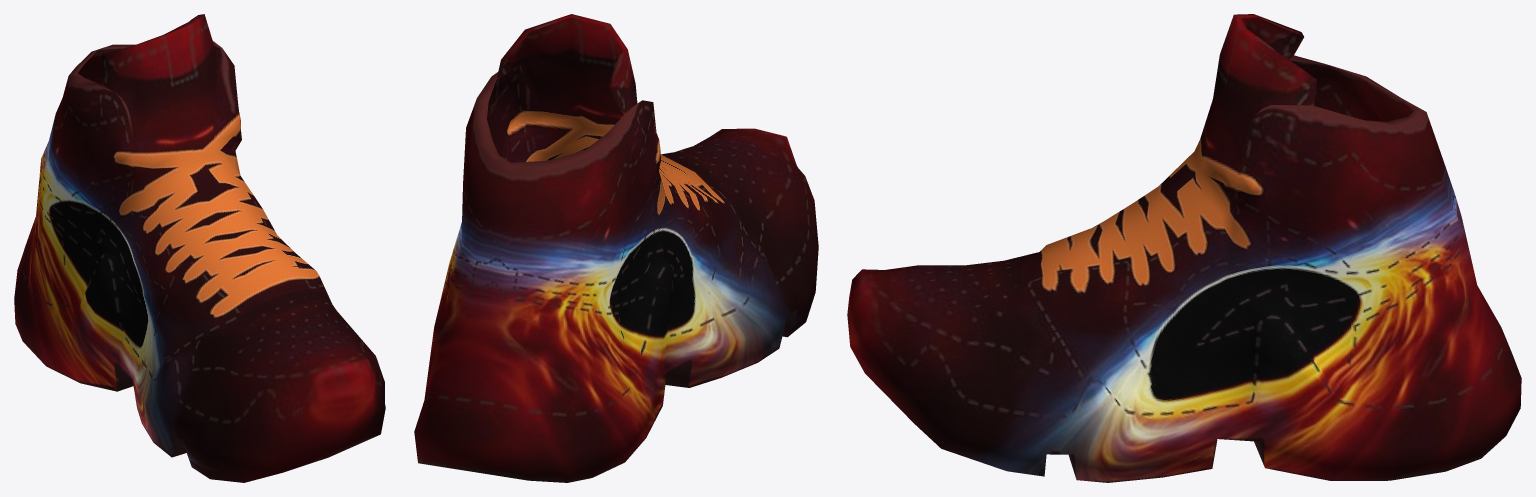
Rendered from Shoes9_L.fbx.
The picture shows the model from 3 angles, left to right: view 1: azimuth 30°, elevation 25°; view 2: azimuth 150°, elevation 25°; view 3: azimuth 270°, elevation 25°; orthographic projection. The views are drawn at different scales.
Parts seen in each view (by area): view 1: avaturn_shoes_0.001; view 2: avaturn_shoes_0.001; view 3: avaturn_shoes_0.001.
Boxes of the visible parts, <box> form: avaturn_shoes_0.001: <box>14,14,385,482</box>; avaturn_shoes_0.001: <box>414,14,818,482</box>; avaturn_shoes_0.001: <box>847,14,1521,482</box>.
Size of the model in its own units: 10.88 by 19.2 by 28.16.
1 material, 1 textured.
